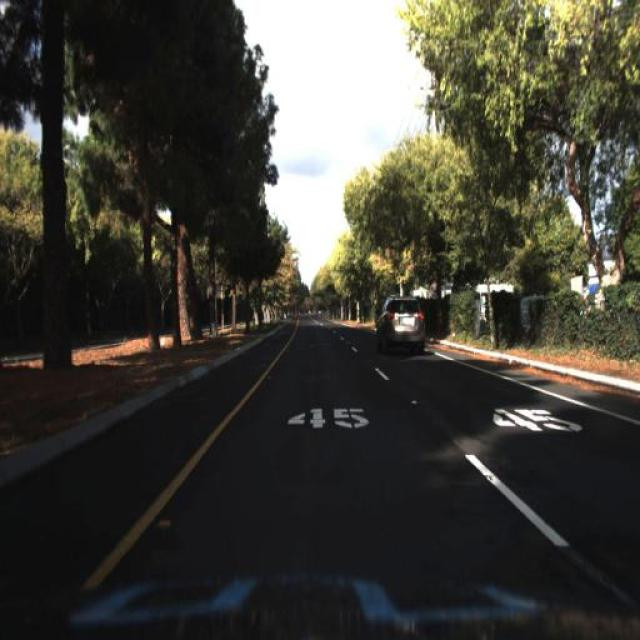car: (375, 294, 429, 356)
